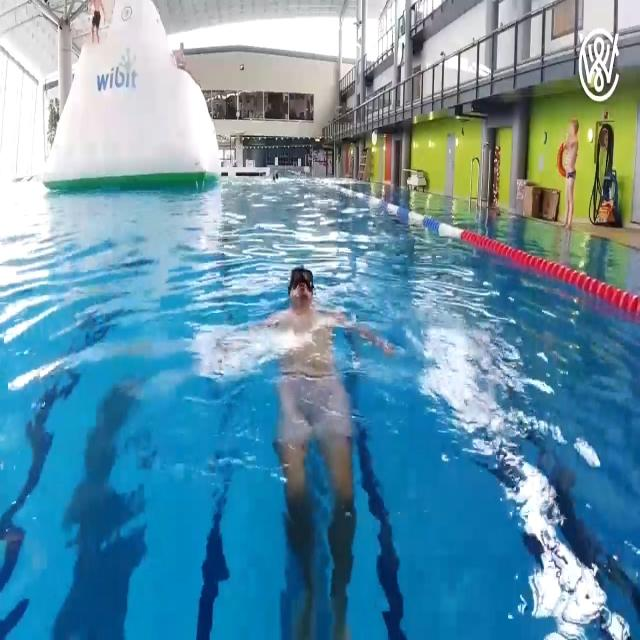Swimming: (272, 263, 341, 395)
